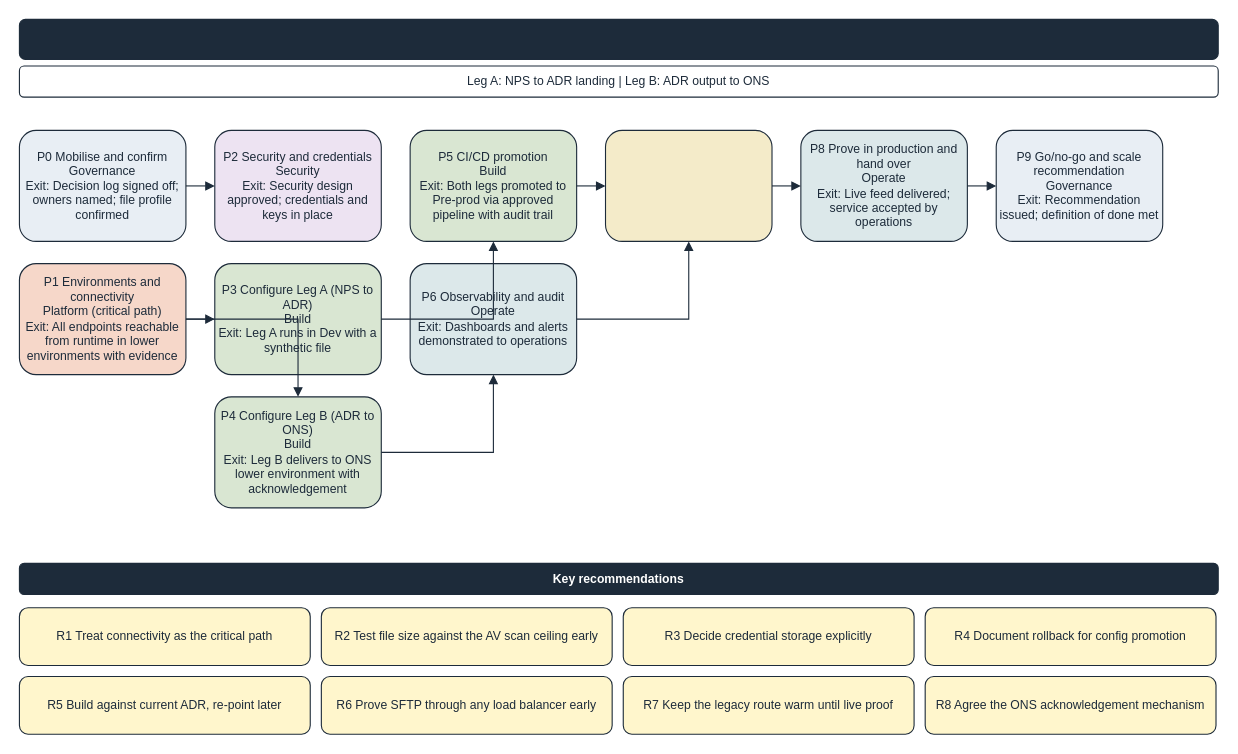
Some shapes in this 1238 by 754 pixel diagram are drawn without their labels. Here are the shapes that lost their labels. From the top down, the centre of each, then its label:
At pixel 618 38: "Boomi MFT MVP: high-level delivery flow (no dates)".
At pixel 688 185: "P7 Test Assure Exit: Evidence pack reviewed; defects closed or accepted".
